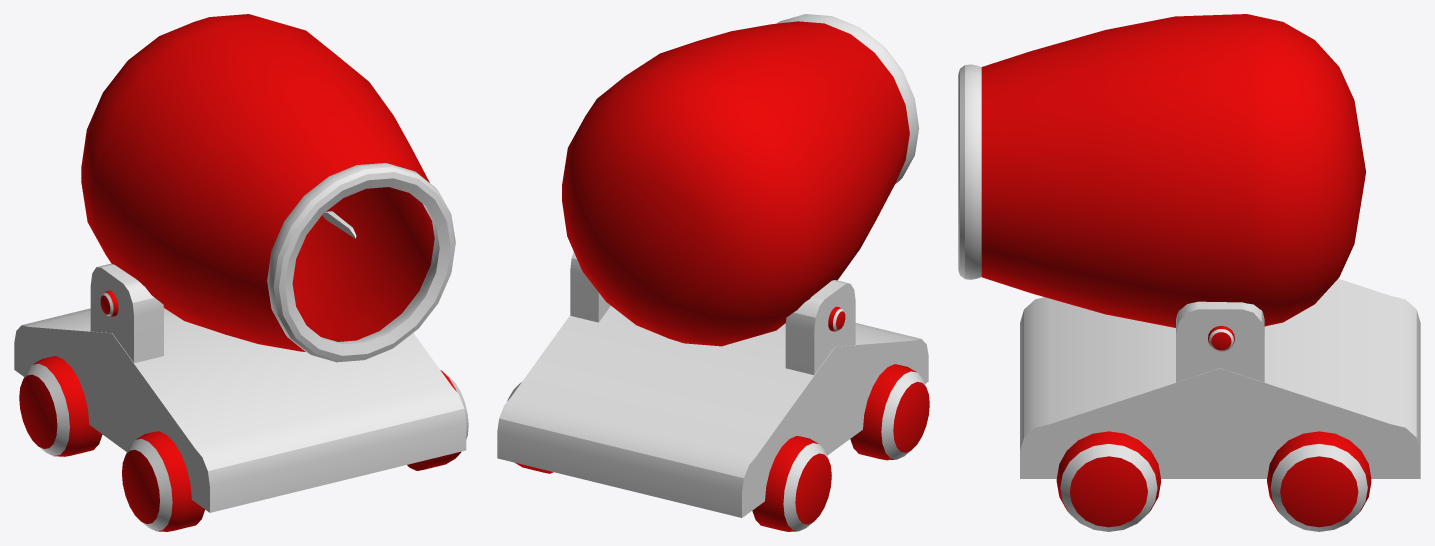
Rendered from canon.fbx.
The picture shows the model from 3 angles, left to right: view 1: azimuth 30°, elevation 25°; view 2: azimuth 150°, elevation 25°; view 3: azimuth 270°, elevation 25°; orthographic projection. The views are drawn at different scales.
Parts seen in each view (by area): view 1: pCylinder40, pCube38, pCylinder41, pCylinder42, pCube39, pCylinder44; view 2: pCylinder40, pCube38, pCylinder42, pCylinder41, pCube39, pCube40; view 3: pCylinder40, pCube38, pCylinder43, pCylinder44, pCube40, pCylinder46.
Boxes of the visible parts, x1,y1,x2,y2 form: pCylinder40: [81, 14, 455, 362]; pCube38: [14, 308, 466, 512]; pCylinder41: [19, 356, 102, 456]; pCylinder42: [122, 431, 204, 531]; pCube39: [90, 263, 163, 363]; pCylinder44: [407, 370, 468, 470]; pCylinder40: [562, 14, 919, 346]; pCube38: [497, 306, 928, 517]; pCylinder42: [850, 364, 929, 460]; pCylinder41: [752, 436, 831, 531]; pCube39: [785, 280, 855, 374]; pCube40: [570, 252, 610, 322]; pCylinder40: [958, 14, 1365, 327]; pCube38: [1020, 278, 1420, 478]; pCylinder43: [1267, 431, 1371, 531]; pCylinder44: [1056, 431, 1160, 531]; pCube40: [1176, 301, 1264, 382]; pCylinder46: [1208, 326, 1234, 351].
Bounding box in the file's own units: 5.17 × 6.65 × 6.43.
